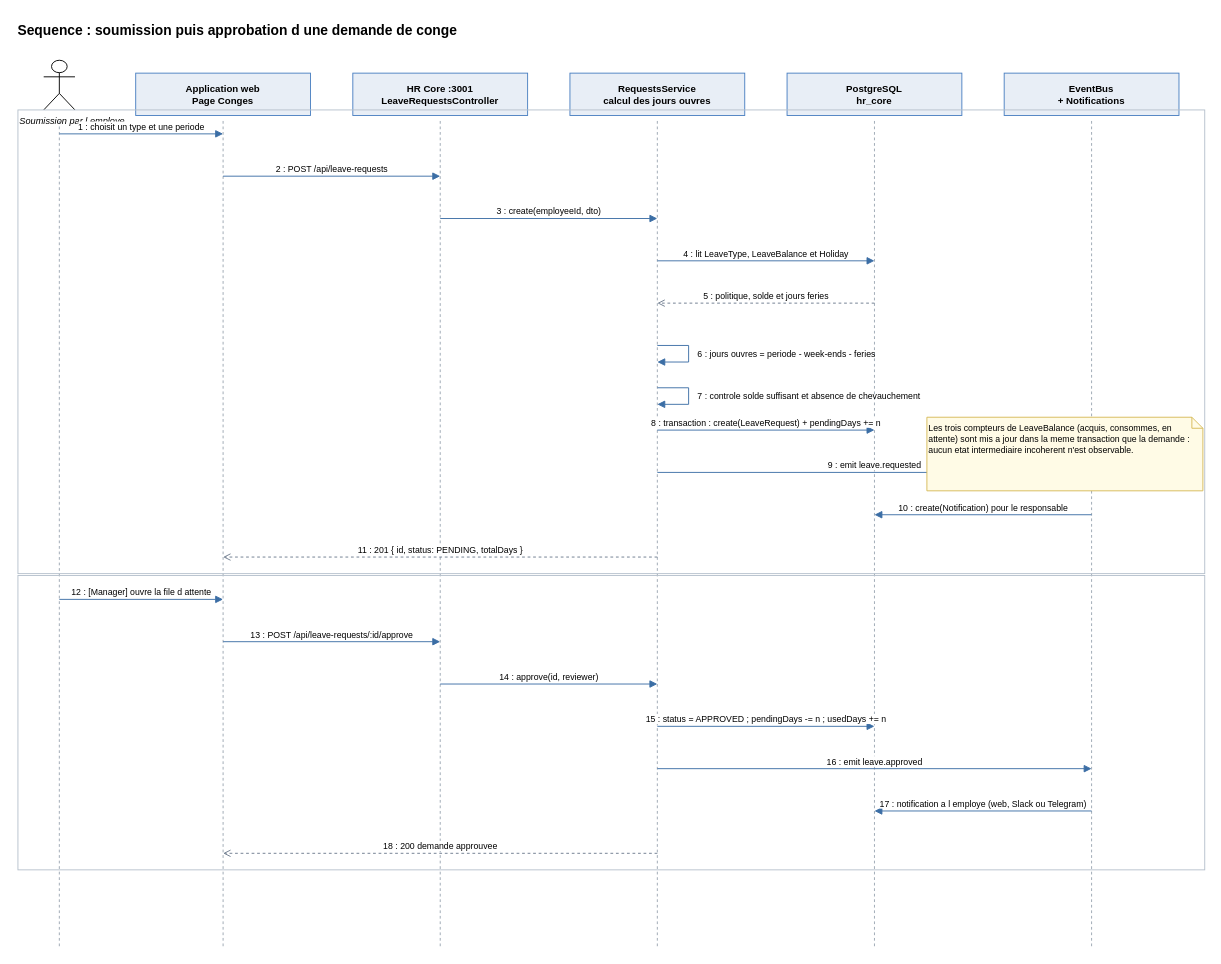
Image size: 1221x964. Some labels were removed from this diagram. Each missing label, with the centre of its shape:
Decision du responsable: point (611, 722)
Employe: point (59, 84)
